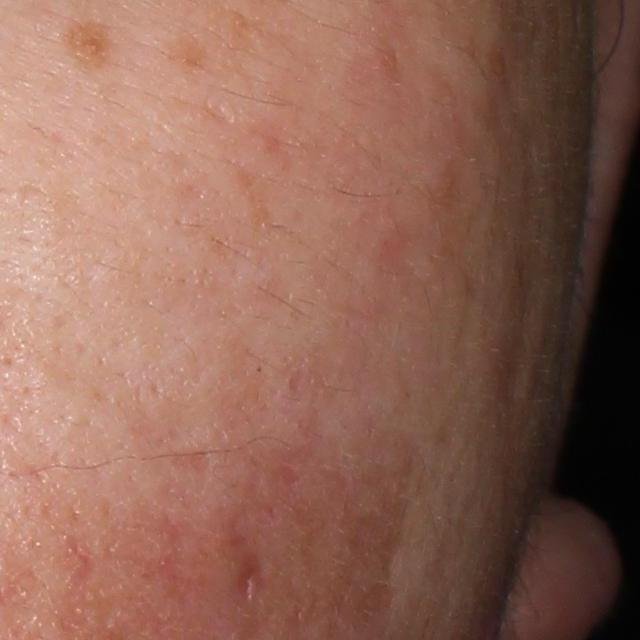atrophic_scar: (235, 555, 259, 606)
melasma: (228, 9, 290, 61), (166, 32, 221, 87), (62, 20, 115, 72)
